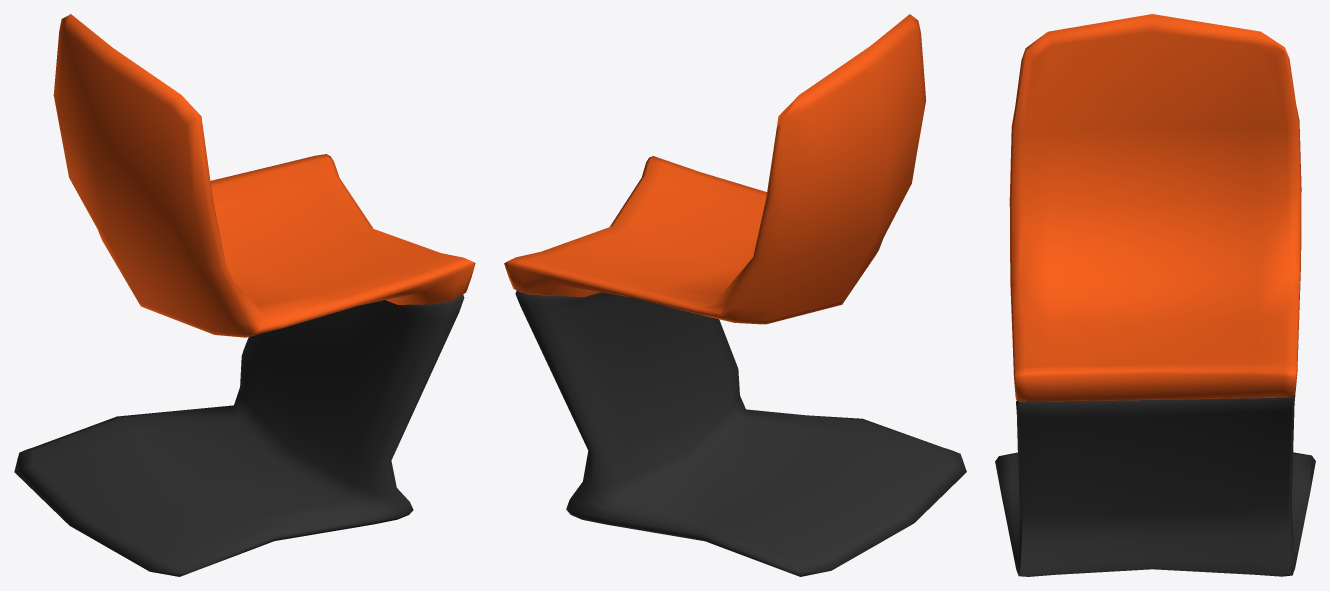
Rendered from aws_ChairD_01_visual.DAE.
The picture shows the model from 3 angles, left to right: view 1: azimuth 30°, elevation 25°; view 2: azimuth 150°, elevation 25°; view 3: azimuth 270°, elevation 25°; orthographic projection. The views are drawn at different scales.
Parts seen in each view (by area): view 1: aws_ChairD_01_visual; view 2: aws_ChairD_01_visual; view 3: aws_ChairD_01_visual.
Boxes of the visible parts, box(x1,y1,x2,y2) form: aws_ChairD_01_visual: box(14, 14, 475, 576); aws_ChairD_01_visual: box(504, 14, 966, 576); aws_ChairD_01_visual: box(995, 14, 1315, 576).
Size of the model in its own units: 57.31 by 49.18 by 77.53.
Materials: 1 (1 with a texture image).
